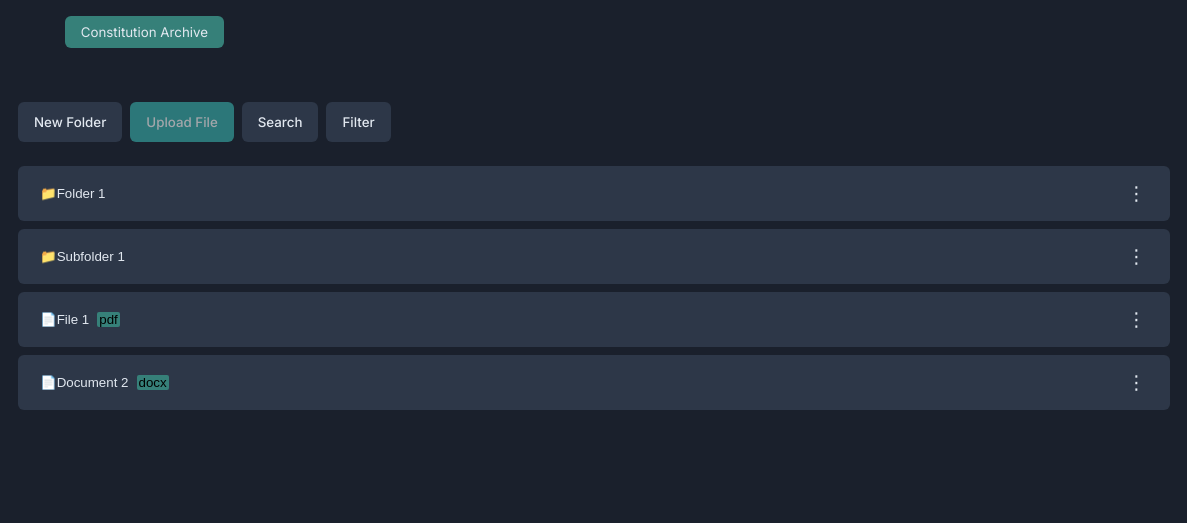
Test: FolderBrowser Component › creates a new folder successfully
The image size is (1187, 523).
Click the button "New Folder".
click(70, 122)  # box [18,102,122,142]
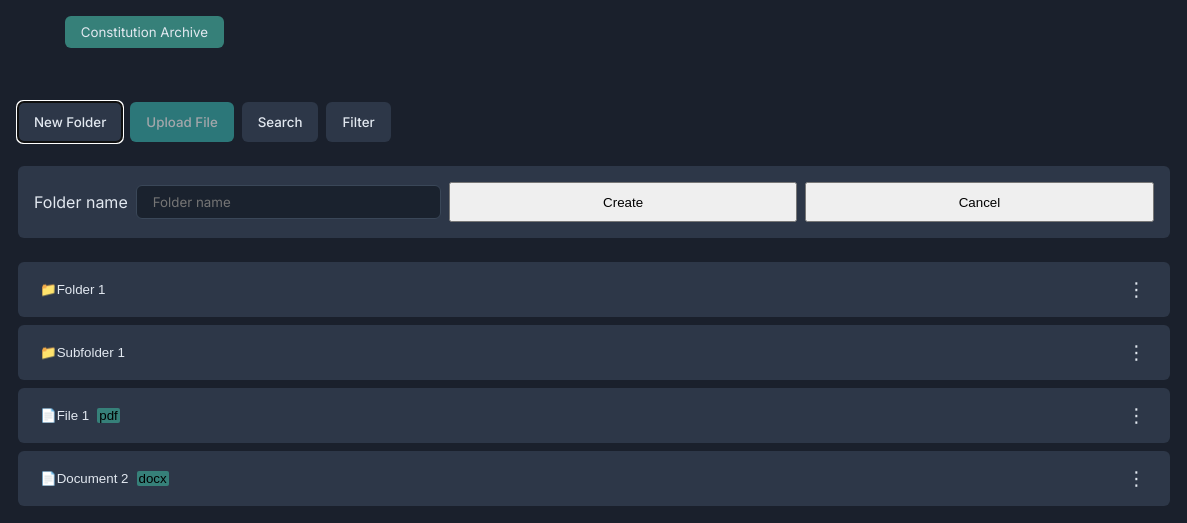
Type "New Folder" into the field with placeholder "Folder name".
click(288, 202); type("New Folder")  # box [136,185,441,219]
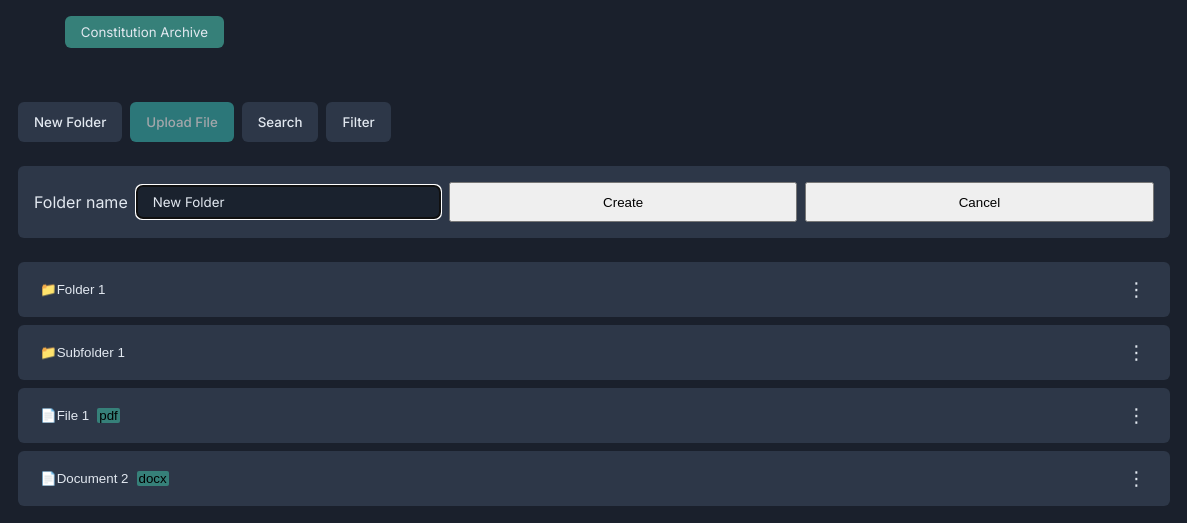
Click the button "Create".
click(623, 202)  # box [449,182,797,222]
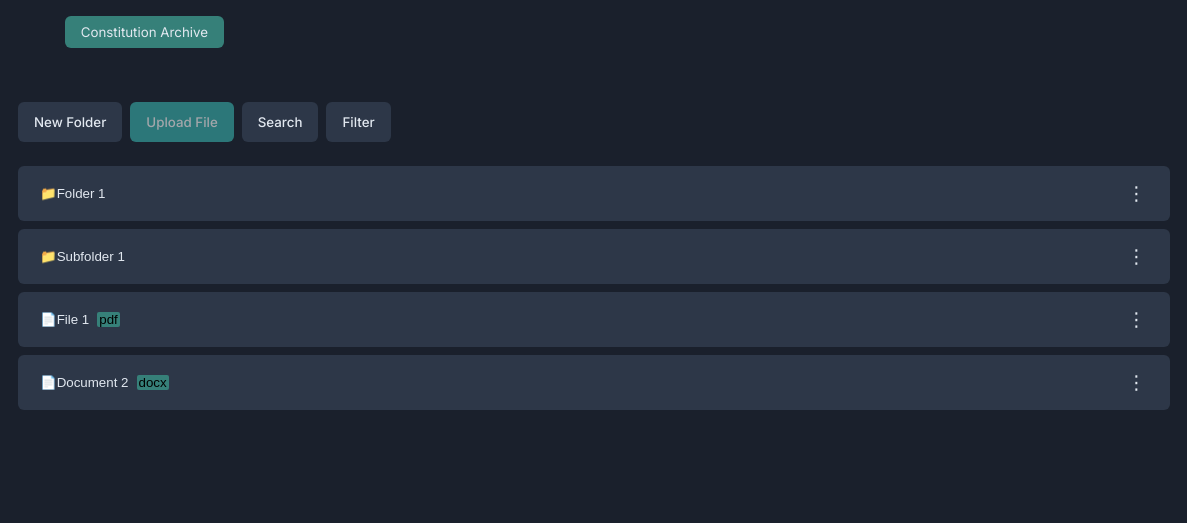
Result: the label with placeholder "Folder name" is gone
